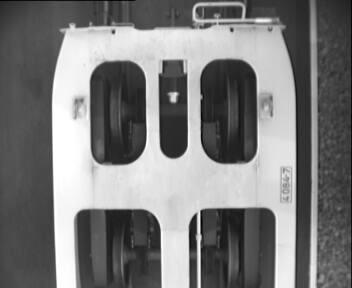wagon_scan: (80, 52, 265, 170)
